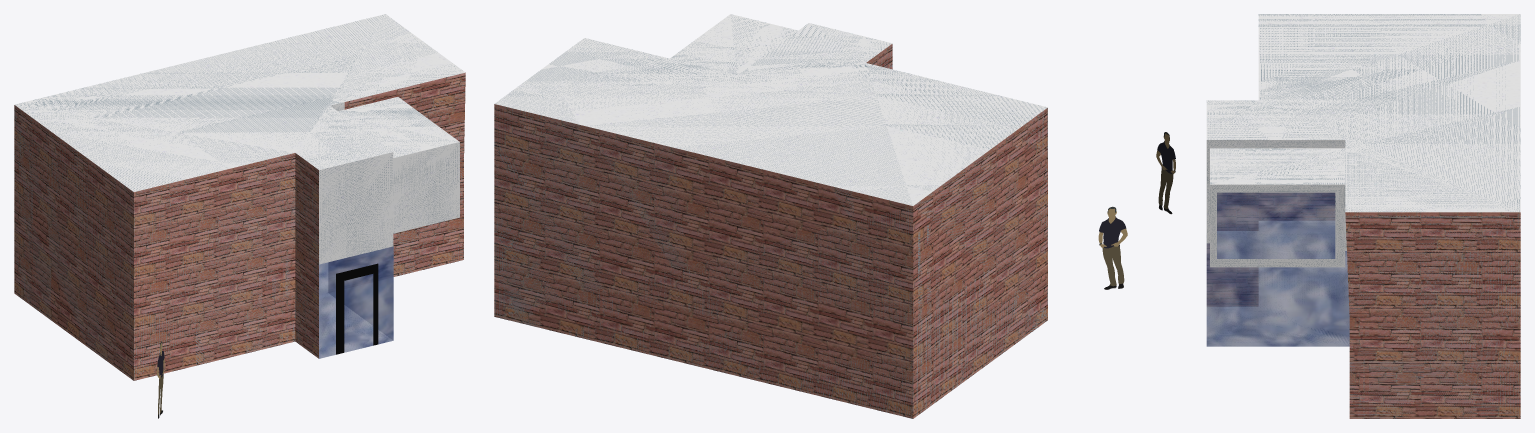
Rendered from Cinema.dae.
The picture shows the model from 3 angles, left to right: view 1: azimuth 30°, elevation 25°; view 2: azimuth 150°, elevation 25°; view 3: azimuth 270°, elevation 25°; orthographic projection. The views are drawn at different scales.
Parts seen in each view (by area): view 1: SketchUp (×6); view 2: SketchUp (×2), Chris; view 3: SketchUp (×5), Chris.
Boxes of the visible parts, box(x1,y1,x2,y2) form: SketchUp (×6): box(14, 14, 465, 380); SketchUp (×2): box(494, 14, 1047, 418); Chris: box(1102, 246, 1124, 286); SketchUp (×5): box(1206, 14, 1520, 418); Chris: box(1158, 169, 1173, 209).
Bounding box in the file's own units: 392 × 286 × 179.
12 materials, 3 textured.
